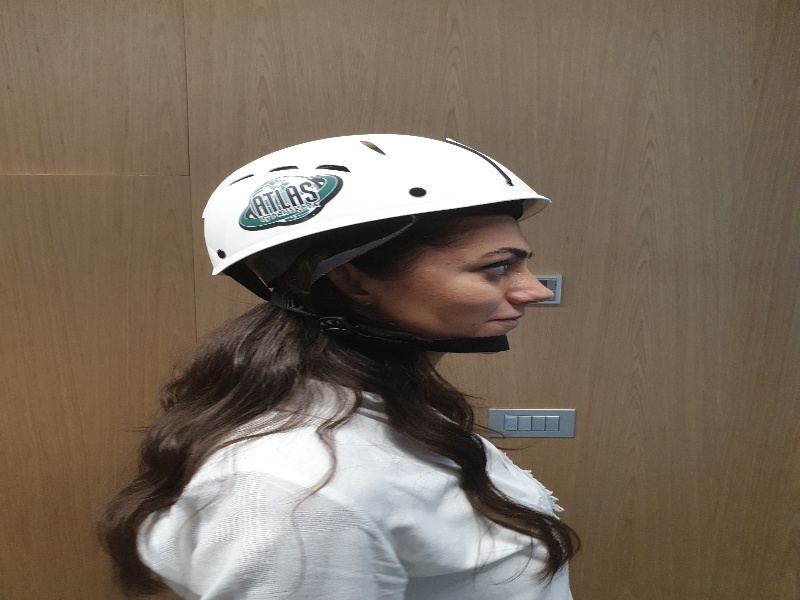Baret: (201, 132, 557, 280)
